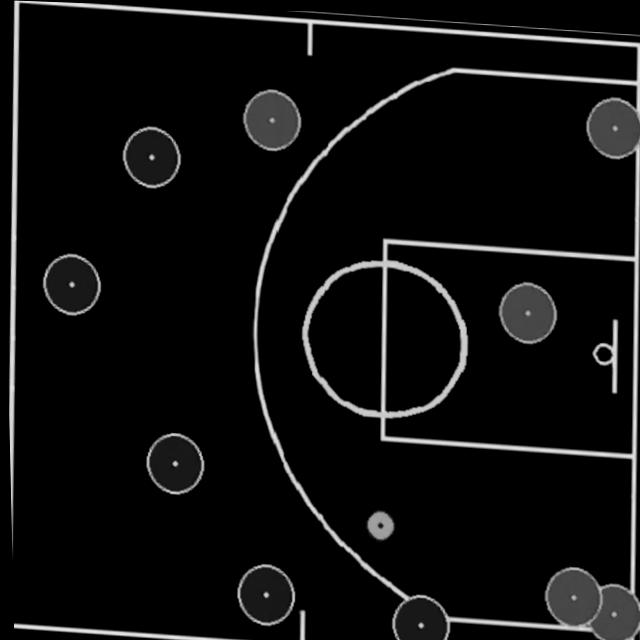Basketball: (360, 506, 393, 540)
Team_A: (119, 123, 180, 189), (141, 428, 202, 493), (232, 560, 292, 626), (39, 252, 99, 316), (386, 589, 446, 640)
Team_B: (239, 84, 300, 150), (495, 277, 555, 341), (540, 560, 599, 624), (583, 90, 640, 155), (583, 578, 640, 640)
